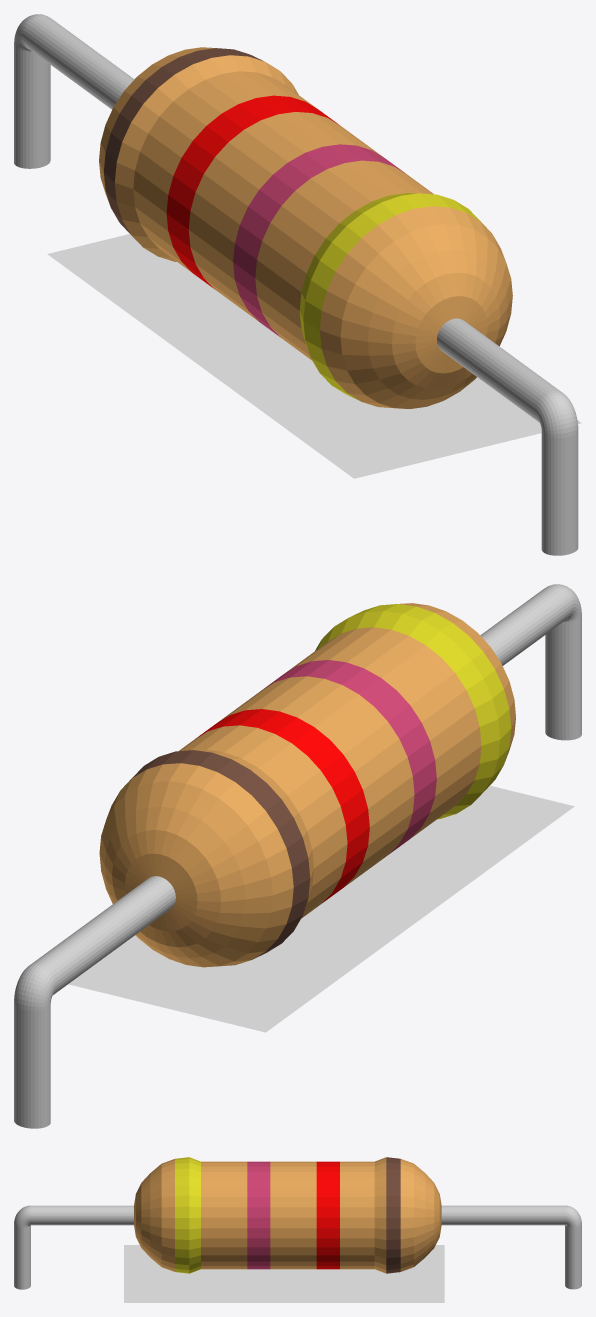
3 renders of one model, top to bottom at view 1: azimuth 30°, elevation 25°; view 2: azimuth 150°, elevation 25°; view 3: azimuth 270°, elevation 25°, orthographic. The views are drawn at different scales.
Visible parts, largest first — view 1: R_11, R_11_plane; view 2: R_11, R_11_plane; view 3: R_11, R_11_plane.
Boxes of the visible parts, box(x1,y1,x2,y2) form: R_11: box(14, 14, 578, 555); R_11_plane: box(47, 234, 581, 478); R_11: box(14, 584, 581, 1128); R_11_plane: box(68, 785, 574, 1032); R_11: box(14, 1157, 581, 1289); R_11_plane: box(124, 1245, 444, 1302).
Bounding box in the file's own units: 0.0161 × 0.0159 × 0.0664.
